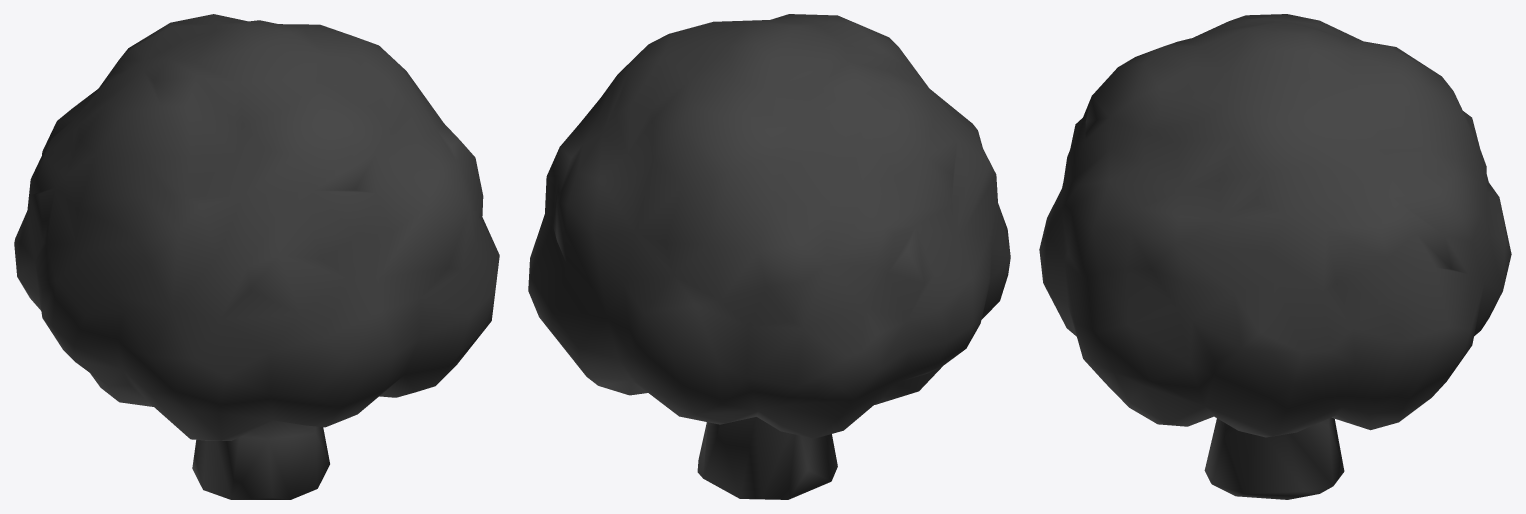
The model's file is tree_broad.glb.
3 renders of one model, left to right at view 1: azimuth 30°, elevation 25°; view 2: azimuth 150°, elevation 25°; view 3: azimuth 270°, elevation 25°, orthographic.
Parts seen in each view (by area): view 1: geometry_0; view 2: geometry_0; view 3: geometry_0.
Boxes of the visible parts, x1=… form: geometry_0: x1=14, y1=14, x2=499, y2=499; geometry_0: x1=528, y1=14, x2=1010, y2=499; geometry_0: x1=1039, y1=14, x2=1511, y2=499.
Size of the model in its own units: 0.9982 by 1.03 by 1.
Materials: 1 (1 with a texture image).
